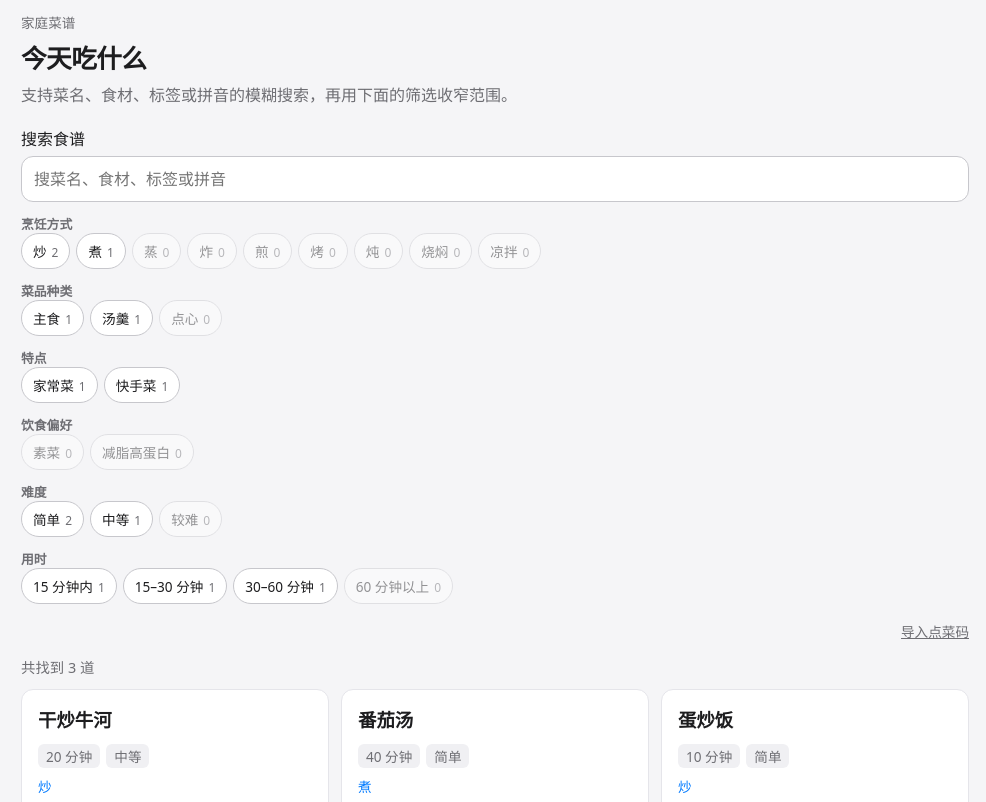
Test: RecipeBrowser › filters results when a cooking-method tag is selected
The width and height of the screenshot is (986, 802).
Click the button "炒2" at (46,251), box top-left (21, 233), bottom-right (70, 269)
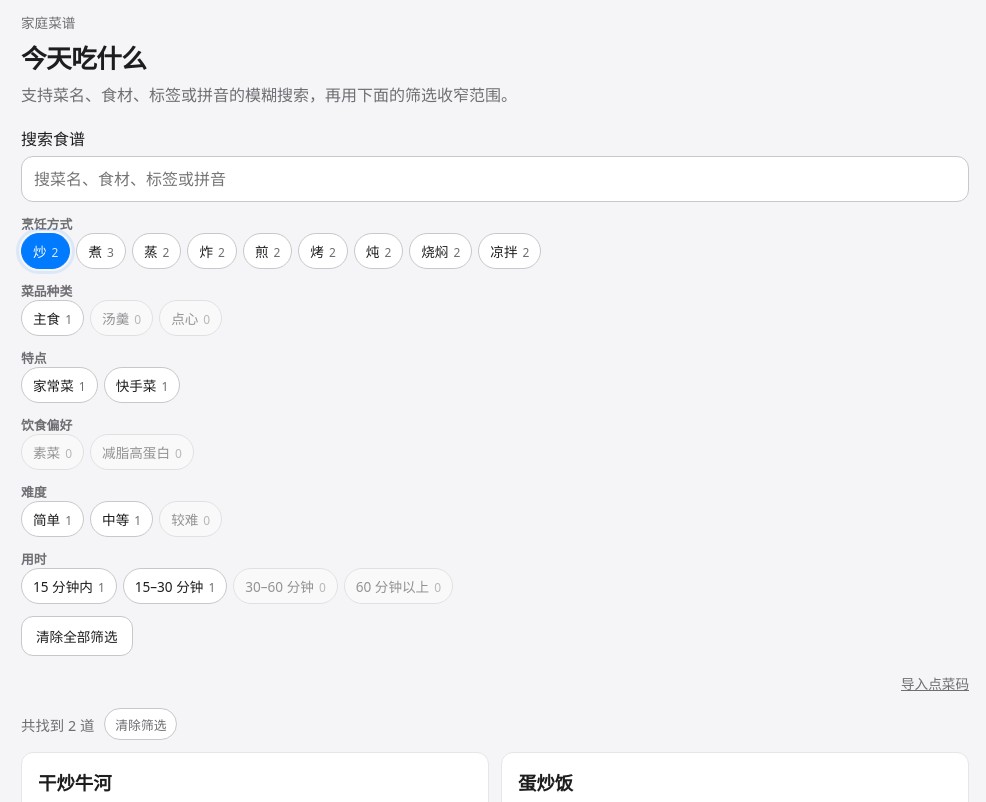
Expected: the heading "干炒牛河" is shown, top-left (38, 770), bottom-right (112, 795)
Expected: the link "番茄汤" is gone
